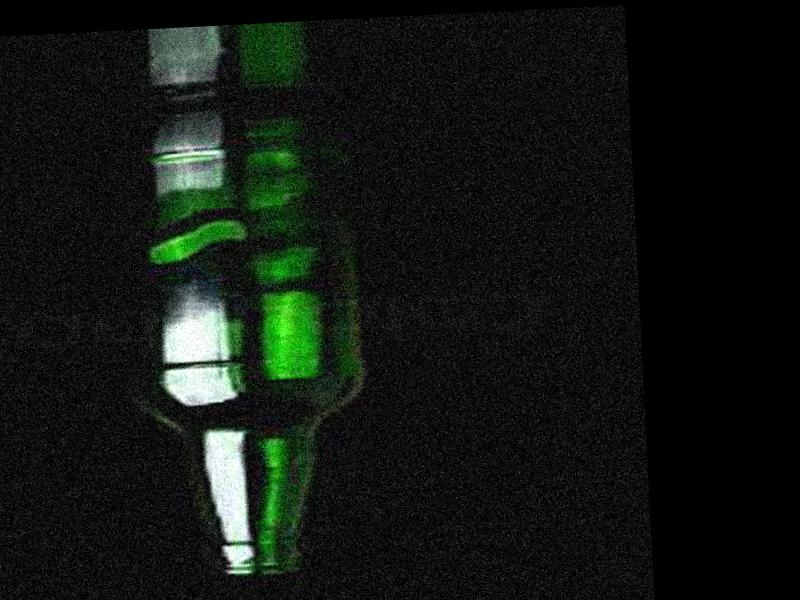Beer: (149, 140, 376, 578)
